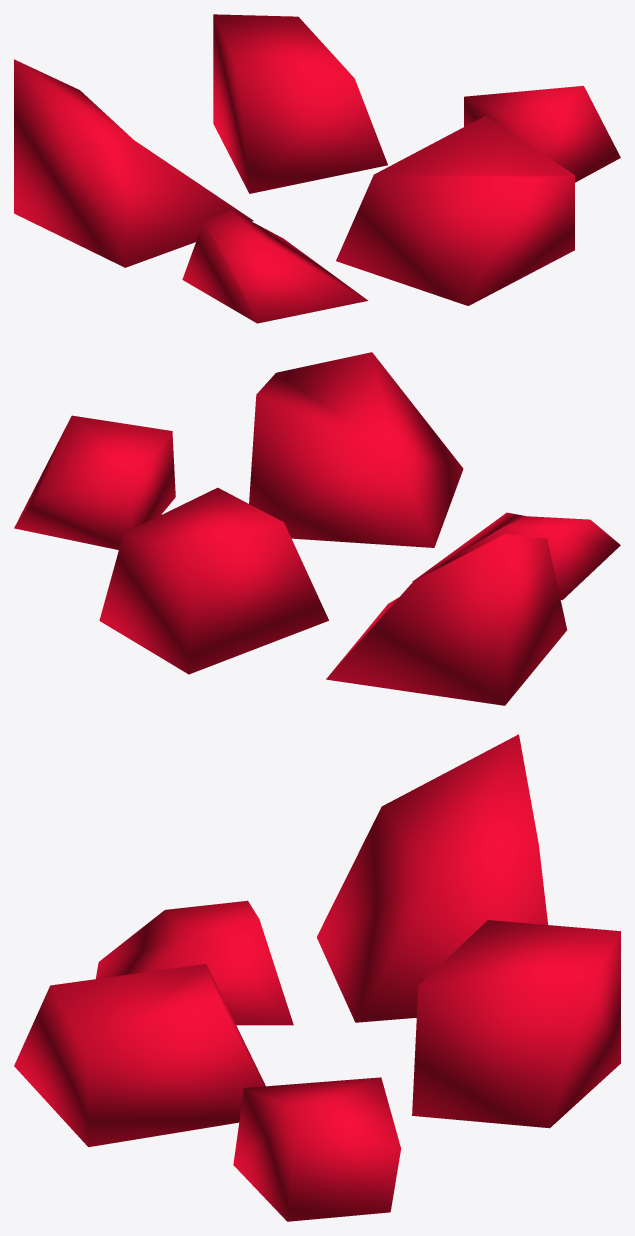
File: piles_o_diced_tomatos.fbx
The picture shows the model from 3 angles, top to bottom: view 1: azimuth 30°, elevation 25°; view 2: azimuth 150°, elevation 25°; view 3: azimuth 270°, elevation 25°; orthographic projection. The views are drawn at different scales.
Parts seen in each view (by area): view 1: tomats; view 2: tomats; view 3: tomats.
Boxes of the visible parts, x1,y1,x2,y2 form: tomats: (14, 14, 620, 323); tomats: (14, 352, 620, 705); tomats: (14, 734, 620, 1221).
Size of the model in its own units: 3.47 by 1 by 2.95.
